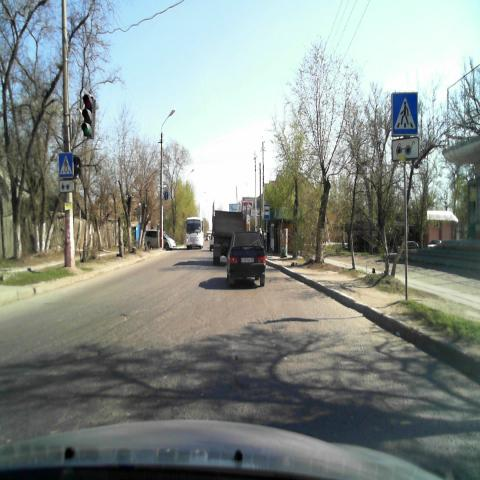8_15: (392, 137, 419, 160)
